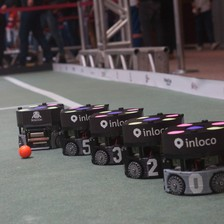ball: (16, 142, 33, 159)
robot: (159, 116, 224, 196), (121, 111, 164, 182), (12, 100, 65, 152), (87, 106, 126, 167), (58, 102, 94, 159)
